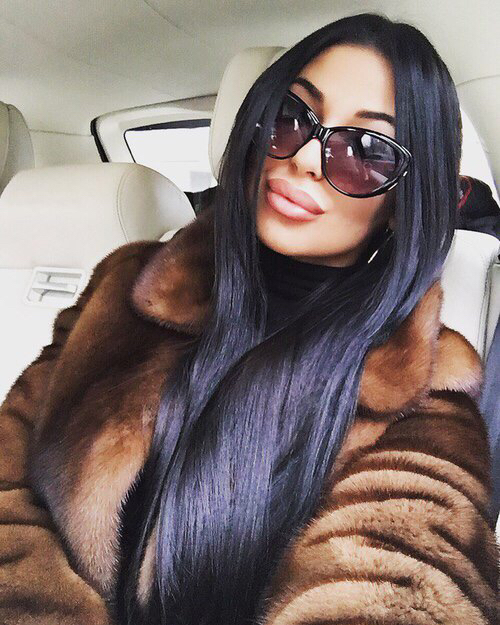sunglasses: (278, 89, 403, 191), (278, 117, 403, 191)
